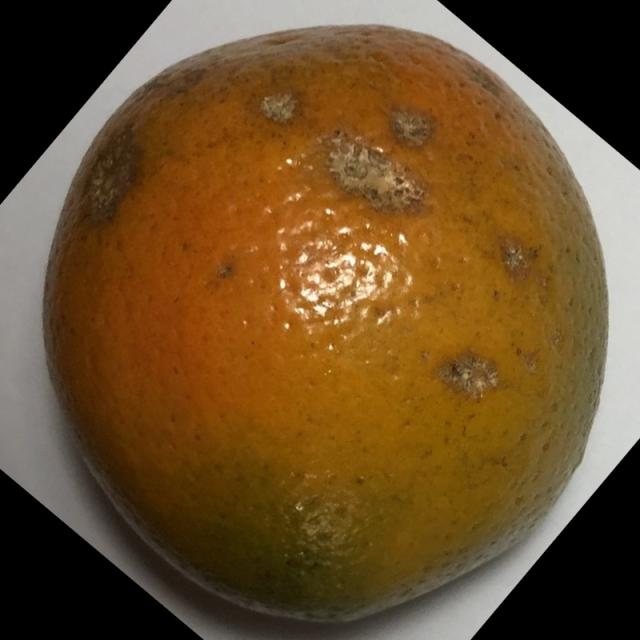canker: (34, 14, 625, 640)
